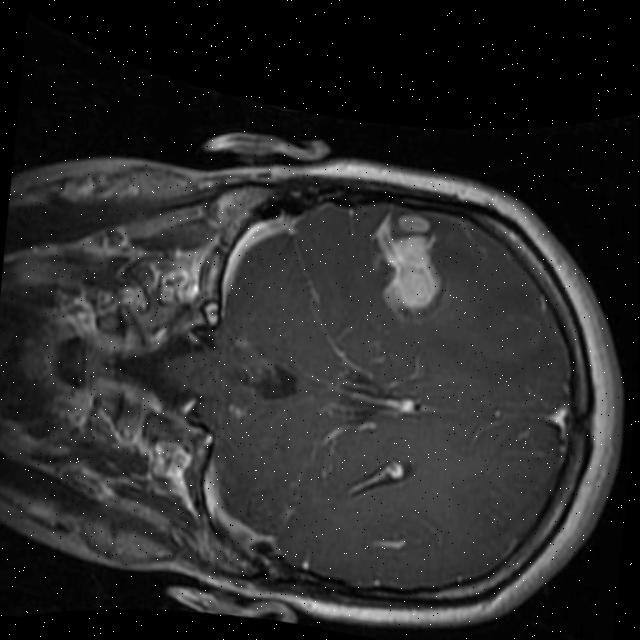Glioma: (362, 204, 450, 323)
